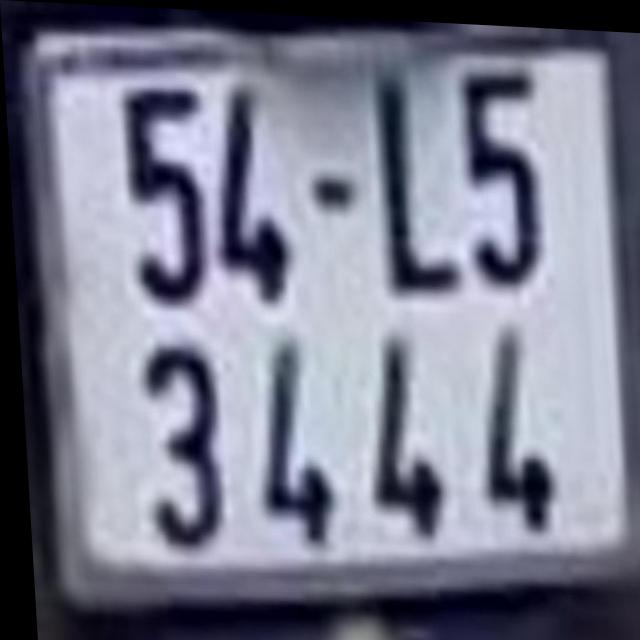3: (137, 338, 221, 549)
4: (363, 330, 446, 544), (472, 314, 553, 528), (213, 85, 288, 306), (256, 334, 327, 538)
5: (120, 83, 207, 308), (463, 63, 547, 278)
L: (376, 71, 461, 291)
